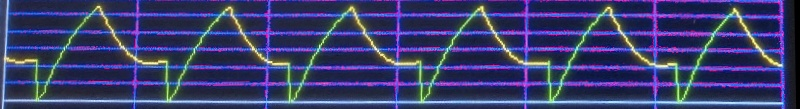leakage: (0, 0, 785, 109)
